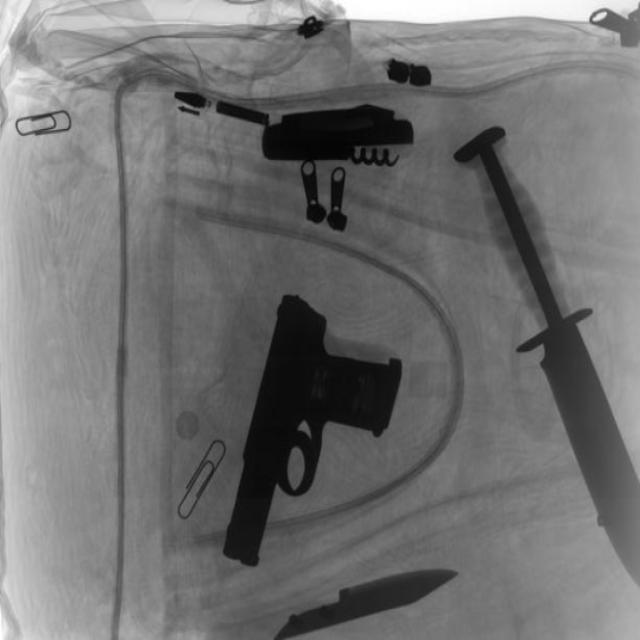GUN: (225, 301, 403, 575)
KNIFE: (481, 115, 640, 603), (272, 545, 464, 640)
